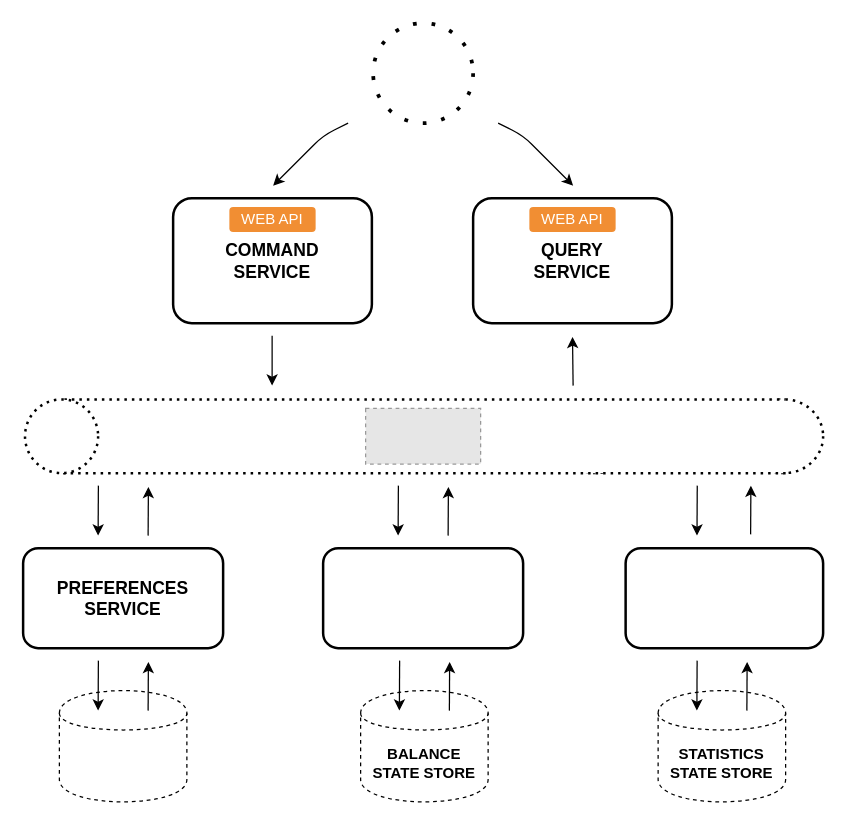
Image size: 845x824. Some labels were removed from this diagram. Grey dashed boxes stand in for pictures. The shapes that lost their labels are listed below. From the top down, each one's centre as x and y in pixels, then its label:
At point (422, 72): "CLIENT".
At point (422, 597): "BALANCE SERVICE".
At point (724, 597): "STATISTICS SERVICE".
At point (122, 745): "PREFERENCES STATE STORE".
